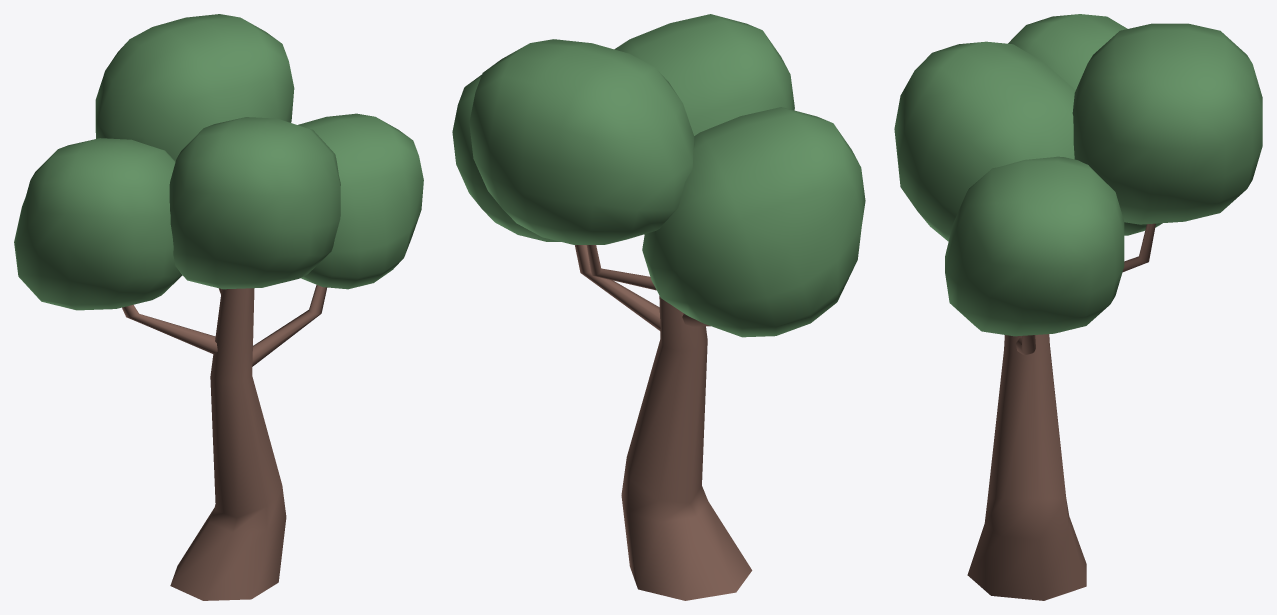
File: Roble_Tree.fbx
3 renders of one model, left to right at view 1: azimuth 30°, elevation 25°; view 2: azimuth 150°, elevation 25°; view 3: azimuth 270°, elevation 25°, orthographic. The views are drawn at different scales.
Parts seen in each view (by area): view 1: Tree_Roble_Foliage_lp, Tree_Roble_Trunk_lp; view 2: Tree_Roble_Foliage_lp, Tree_Roble_Trunk_lp; view 3: Tree_Roble_Foliage_lp, Tree_Roble_Trunk_lp.
Part boxes in pixels (box(x1,y1,x2,y2)): Tree_Roble_Foliage_lp: box(14, 14, 423, 310); Tree_Roble_Trunk_lp: box(122, 285, 326, 600); Tree_Roble_Foliage_lp: box(452, 14, 865, 337); Tree_Roble_Trunk_lp: box(575, 245, 752, 600); Tree_Roble_Foliage_lp: box(894, 14, 1262, 336); Tree_Roble_Trunk_lp: box(967, 223, 1155, 600).
Size of the model in its own units: 14.16 by 18.4 by 11.06.
